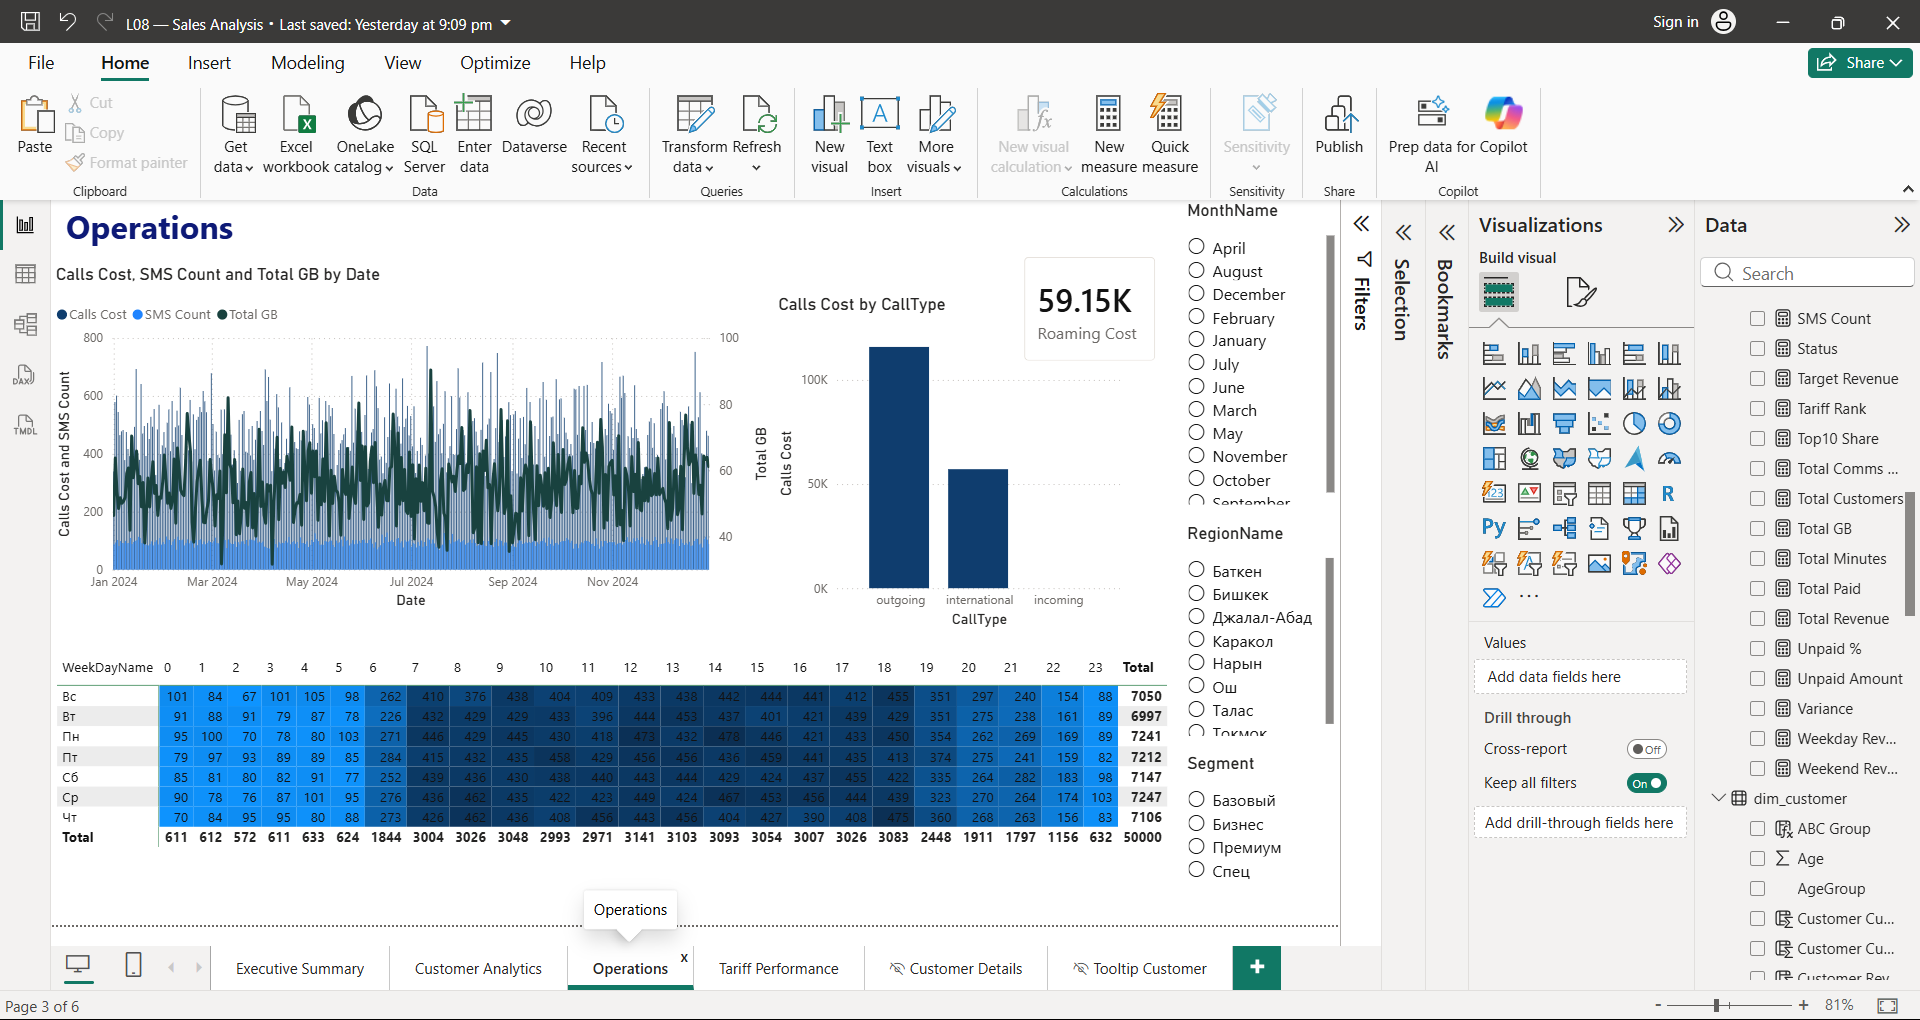

The page's visual inventory and layout, read from the dashboard file:
{"tool":"powerbi","page":{"name":"Operations","canvas":[1280,720],"ordinal":2},"visuals":[{"type":"textbox","box":[10,0,280,280],"z":0},{"type":"listSlicer","fields":{"Values":["dim_date.MonthName"]},"box":[1123.8,0,156.4,307.4],"z":1},{"type":"listSlicer","fields":{"Values":["dim_region.RegionName"]},"box":[1123.8,319.7,155.1,218.2],"z":2},{"type":"listSlicer","fields":{"Values":["dim_tariff.Segment"]},"box":[1123.8,548.9,156.4,133.1],"z":3},{"type":"lineClusteredColumnComboChart","fields":{"Category":["dim_date.Date"],"Y":["_Measures.Calls Cost","_Measures.SMS Count"],"Y2":["_Measures.Total GB"]},"box":[0,63.1,717.7,347.2],"z":4},{"type":"pivotTable","fields":{"Rows":["dim_date.WeekDayName"],"Columns":["fact_calls.Call Hour"],"Values":["_Measures.Calls Count"]},"box":[1.4,448.7,1123.8,222.3],"z":5},{"type":"clusteredColumnChart","fields":{"Category":["fact_calls.CallType"],"Y":["_Measures.Calls Cost"]},"box":[717.7,93.3,351.3,336.2],"z":6},{"type":"cardVisual","fields":{"Data":["_Measures.Roaming Cost"]},"box":[949.6,39.8,164.7,137.2],"z":7}]}

Visuals, with their boxes on the page's 1280x720 design canvas (x1, y1, x2, y2). These are canvas units, not pixel positions in the 1920x1020 screenshot, which may show the page scaled, cropped or inside an application window:
textbox: region(10, 0, 290, 280)
listSlicer - dim_date.MonthName: region(1124, 0, 1280, 307)
listSlicer - dim_region.RegionName: region(1124, 320, 1279, 538)
listSlicer - dim_tariff.Segment: region(1124, 549, 1280, 682)
lineClusteredColumnComboChart - dim_date.Date x _Measures.Calls Cost: region(0, 63, 718, 410)
pivotTable - dim_date.WeekDayName x fact_calls.Call Hour: region(1, 449, 1125, 671)
clusteredColumnChart - fact_calls.CallType x _Measures.Calls Cost: region(718, 93, 1069, 430)
cardVisual - _Measures.Roaming Cost: region(950, 40, 1114, 177)
